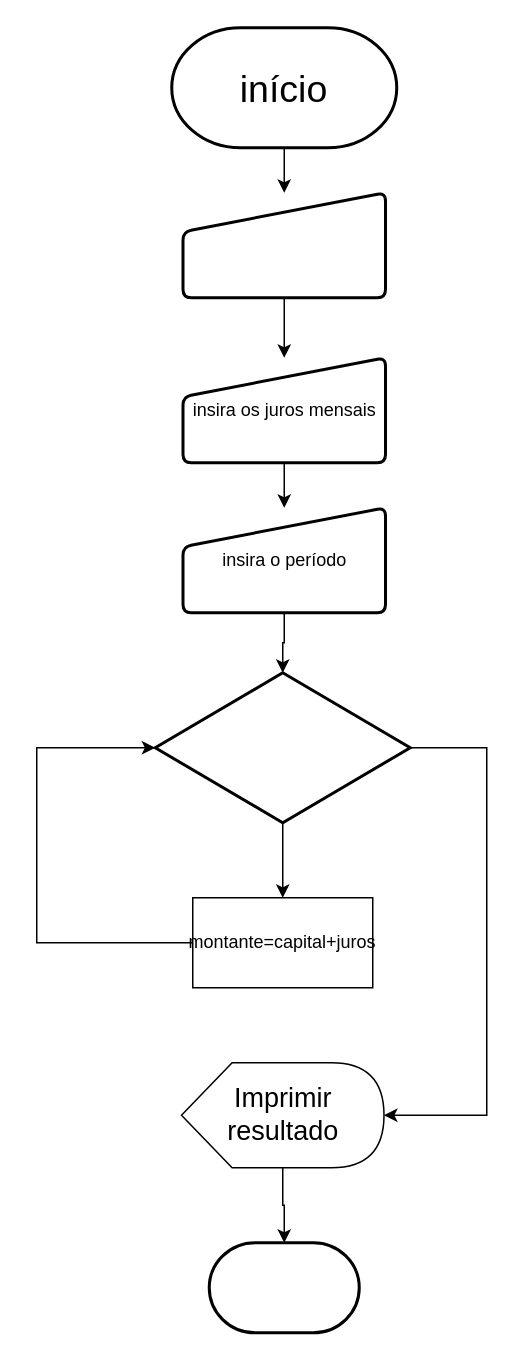
Some shapes in this 525 by 1359 pixel diagram are drawn without their labels. Here are the shapes that lost their labels. From the top down, the centre of each, then its label:
(283,244): insira a capital
(282,747): i=1 até <=período onde i++
(283,1287): Fim.
